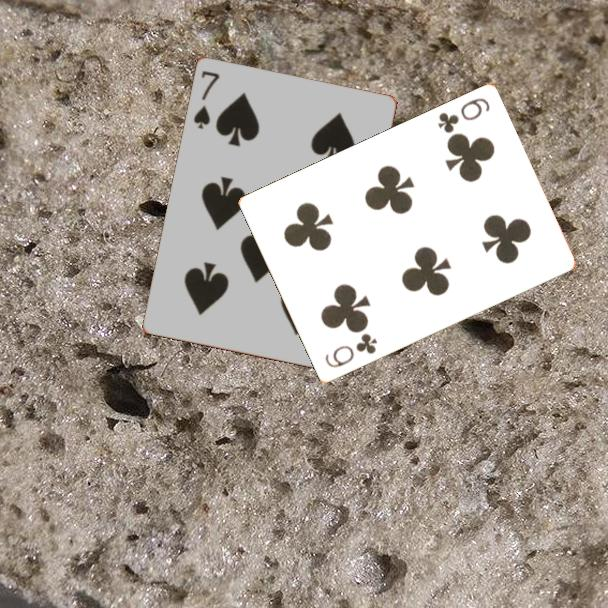c06: (321, 330, 380, 371), (434, 95, 493, 136)
s07: (190, 68, 223, 132)
